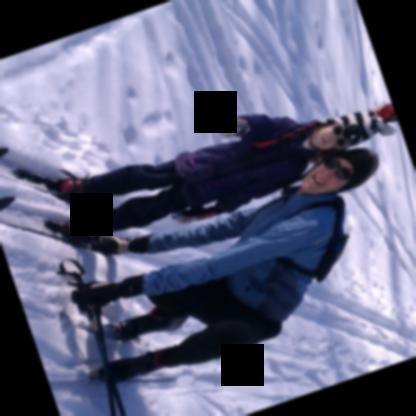backpack: (276, 196, 349, 283)
